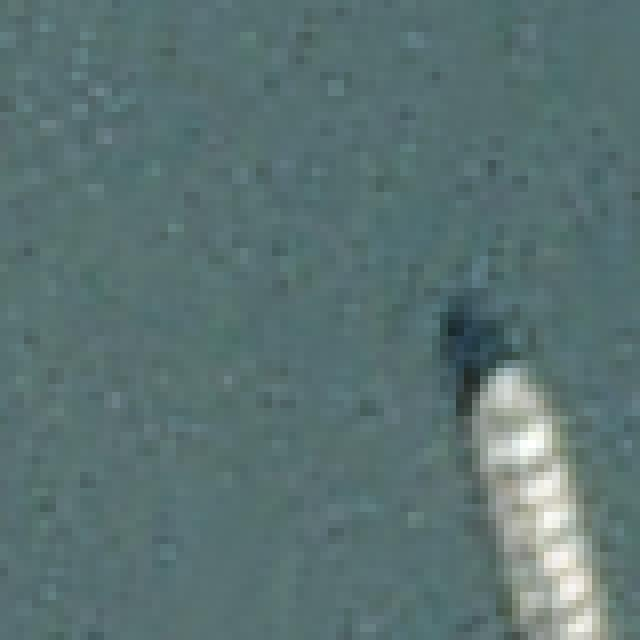ship: (430, 288, 640, 640)
